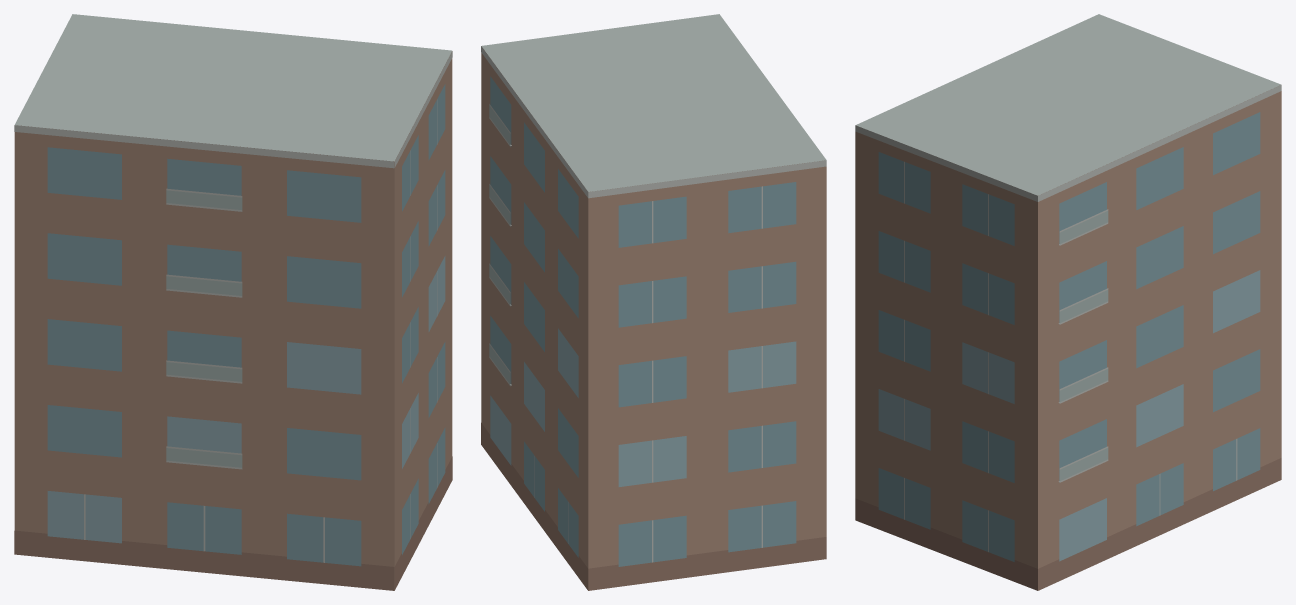
File: survey-upis-32891007.glb
3 renders of one model, left to right at view 1: azimuth 30°, elevation 25°; view 2: azimuth 150°, elevation 25°; view 3: azimuth 270°, elevation 25°, orthographic. The views are drawn at different scales.
Parts seen in each view (by area): view 1: survey-upis-32891007.tmp; view 2: survey-upis-32891007.tmp; view 3: survey-upis-32891007.tmp.
Boxes of the visible parts, <box> form: survey-upis-32891007.tmp: <box>14,14,452,590</box>; survey-upis-32891007.tmp: <box>481,14,826,590</box>; survey-upis-32891007.tmp: <box>855,14,1281,590</box>.
Size of the model in its own units: 15.21 by 15.4 by 15.07.
